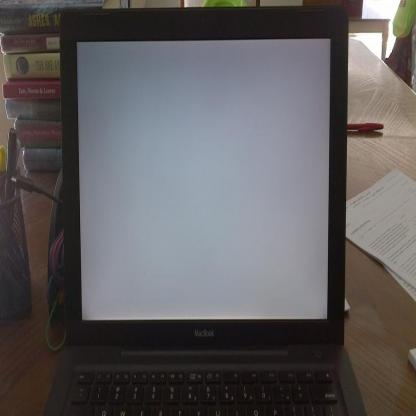board: (42, 8, 368, 416)
